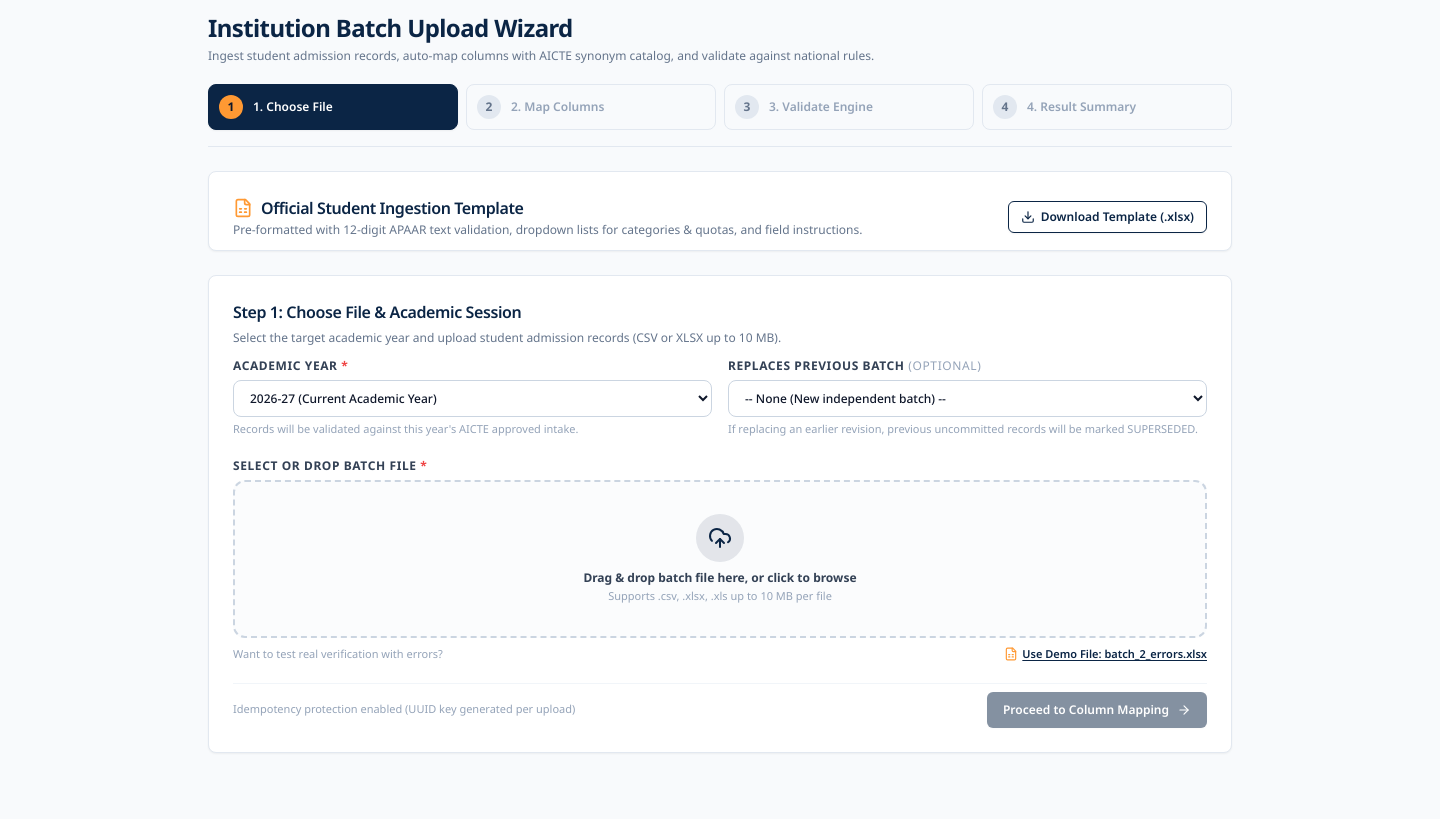
Test: Upload Wizard & Column Mapping (Task A2) › Step 1: Choose File & Options › selecting demo file enables upload and advances to column mapping
// Click demo file button
Step 1. Click the button "Use Demo File: batch_2_errors.xlsx" → coordinates (1106, 654), box [1004,646,1207,662]
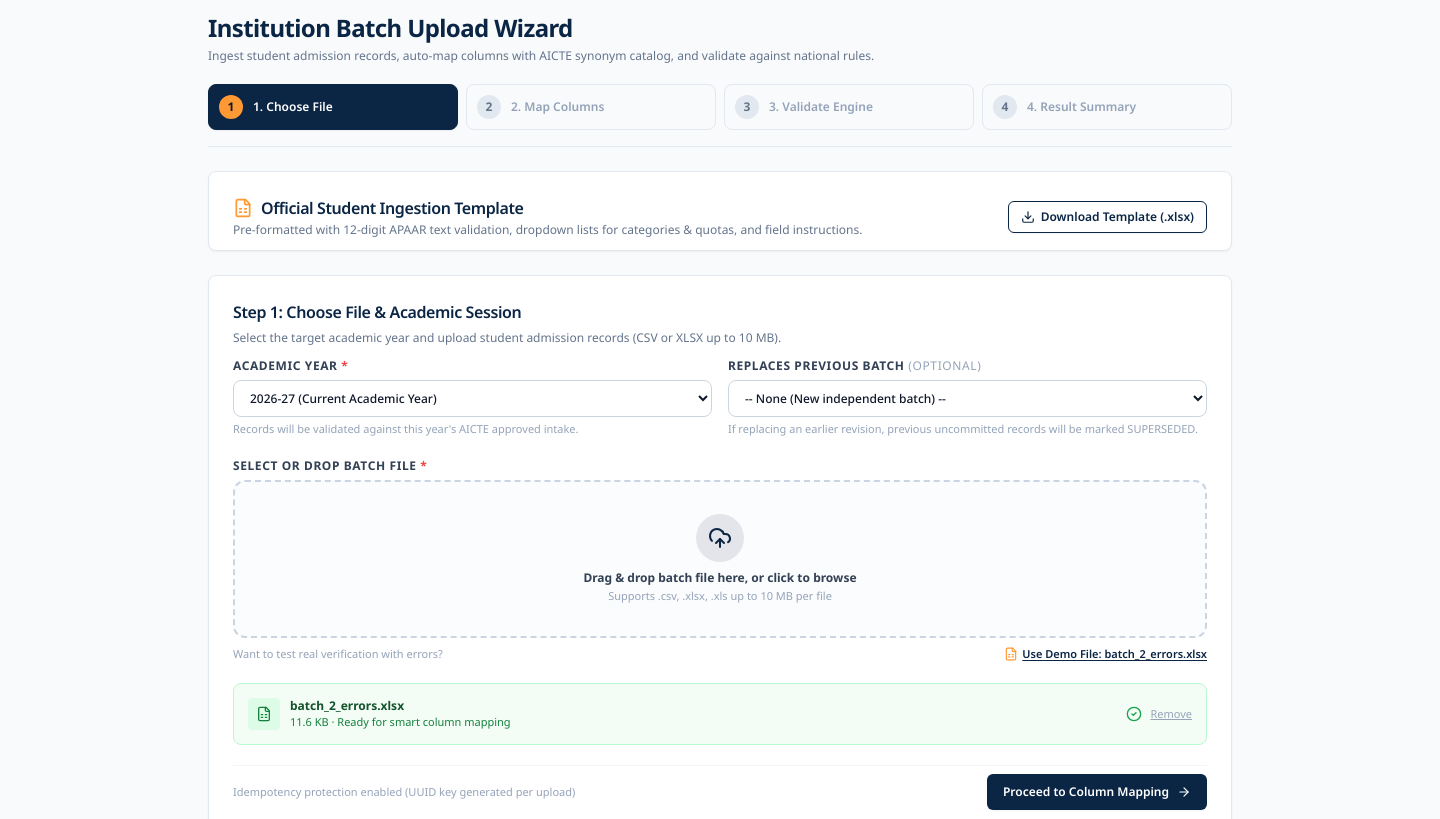
Check: the text "batch_2_errors.xlsx" is shown, box [290,696,404,714]
Check: the button "Proceed to Column Mapping" is enabled
// Submit upload
Step 2. Click the button "Proceed to Column Mapping" → coordinates (1097, 792), box [987,774,1207,810]
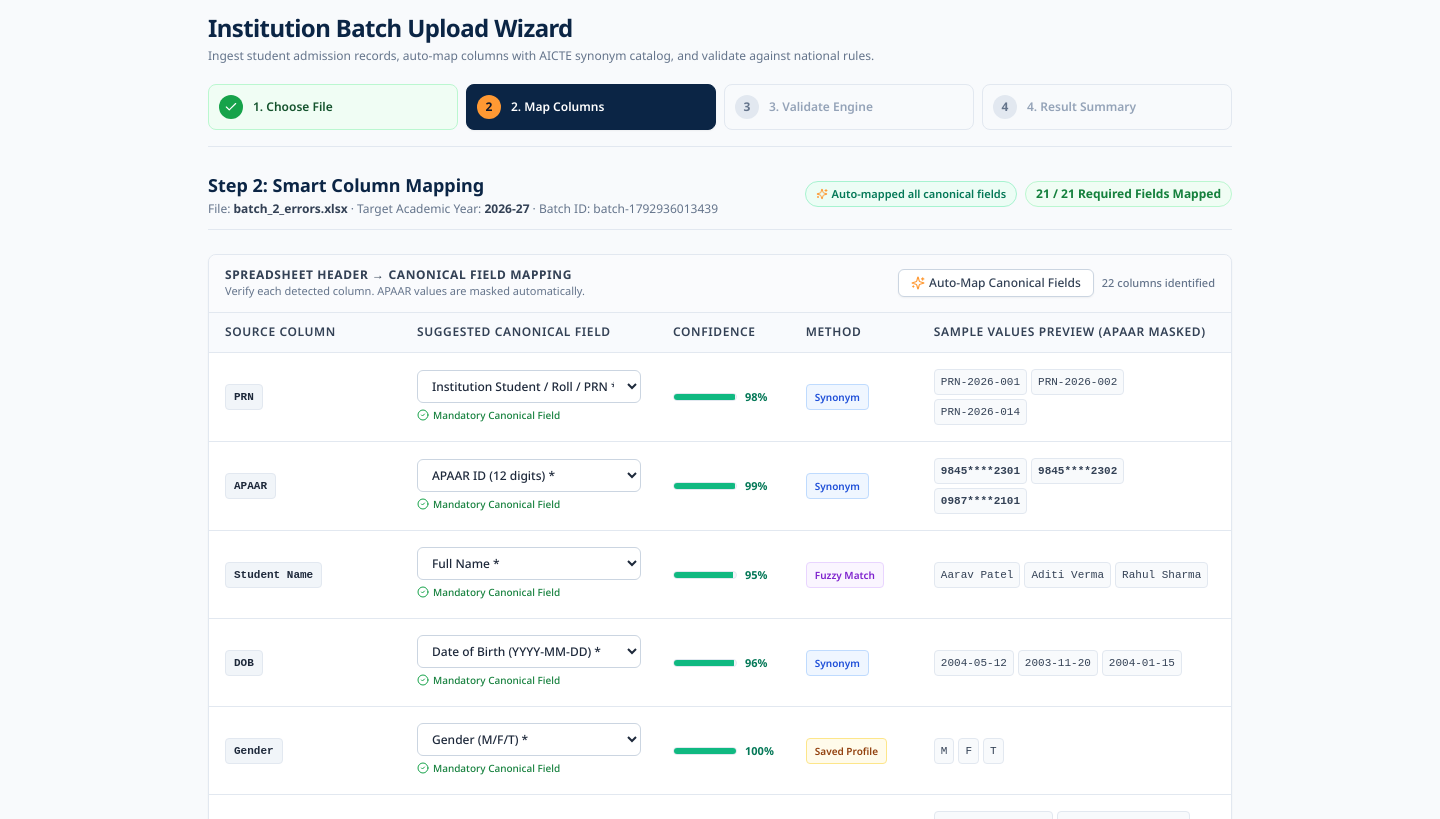
Check: the text "2. Map Columns" is shown, box [511,99,604,115]
Check: the heading "Step 2: Smart Column Mapping" is shown, box [208,173,484,197]
